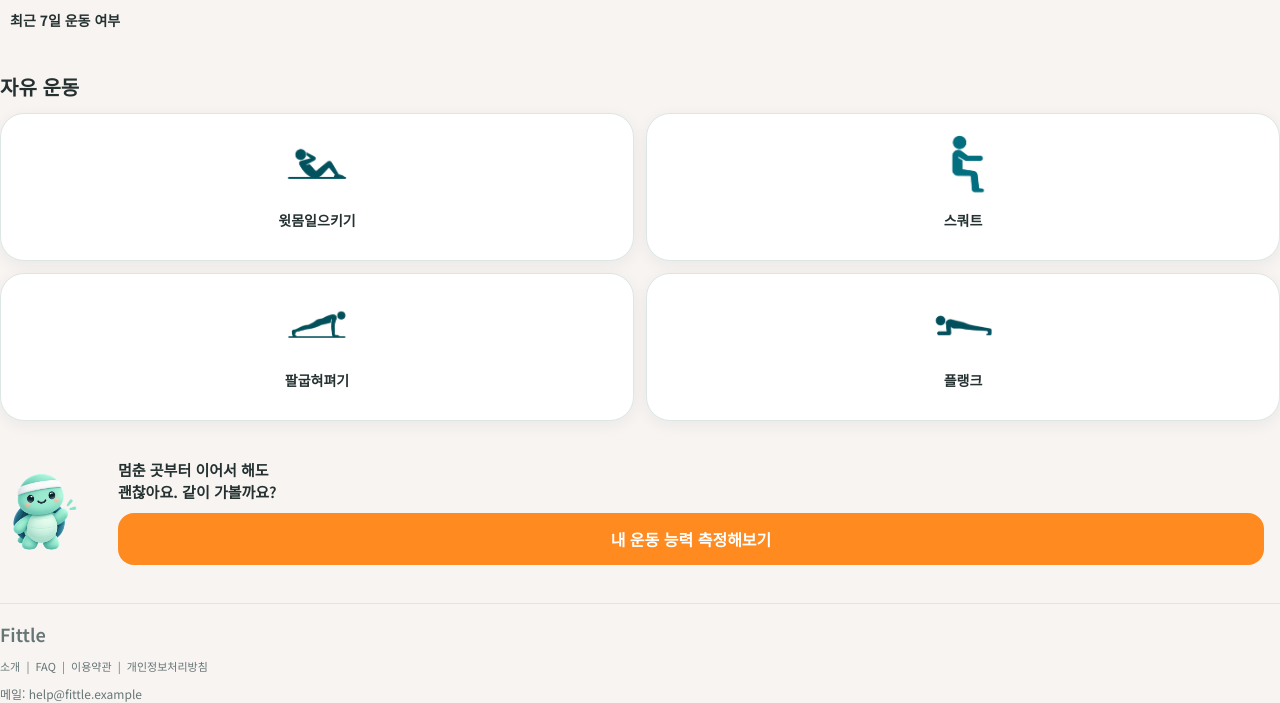
Scenario: does not silently resume when restart is selected without a group ID
Click the button "내 운동 능력 측정해보기" at (691, 539), box [118,513,1264,565]
Wait 500 ms
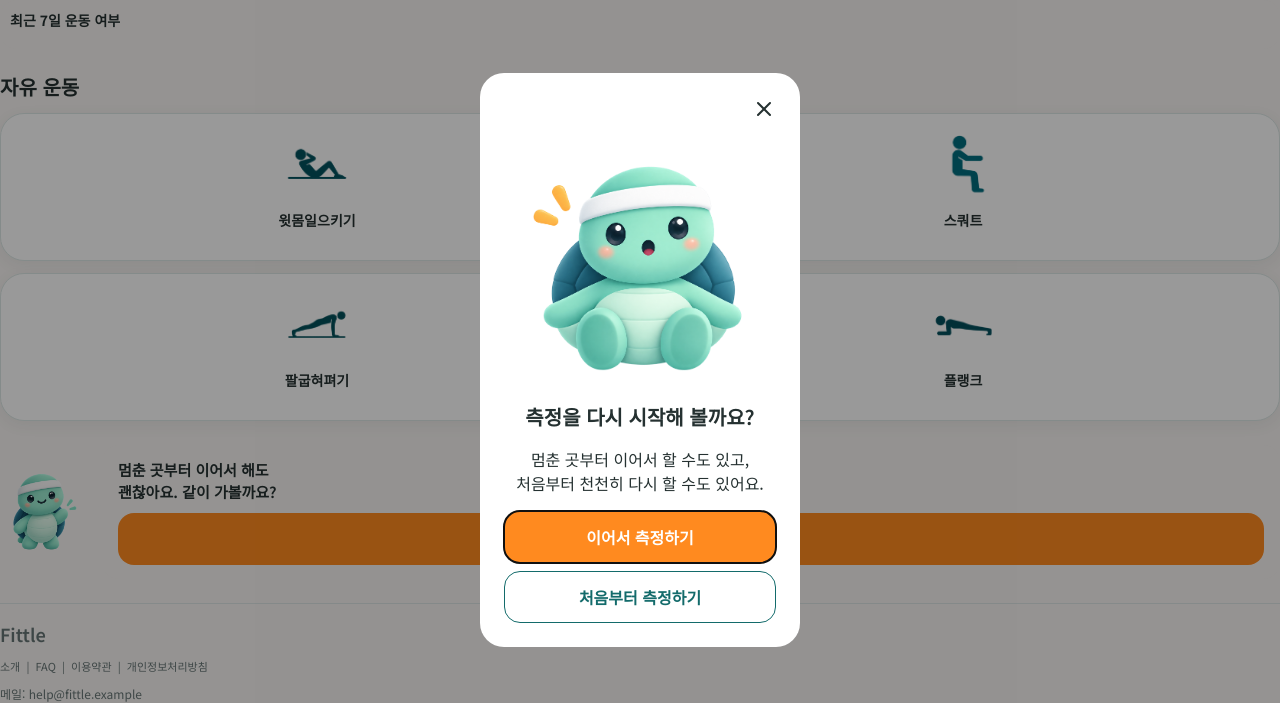
Click the button "처음부터 측정하기" at (640, 597), box [504,571,776,623]
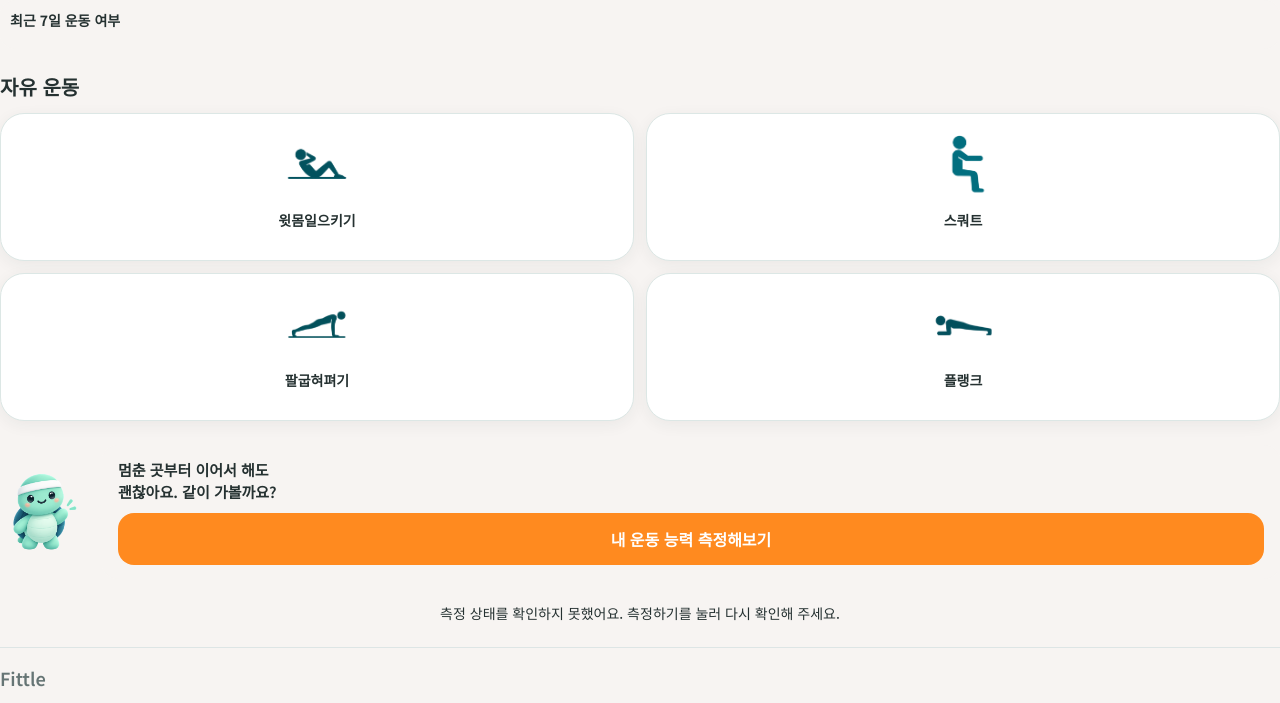
Expected: the message "측정 상태를 확인하지 못했어요. 측정하기를 눌러 다시 확인해 주세요." is shown, [440,603,840,623]
